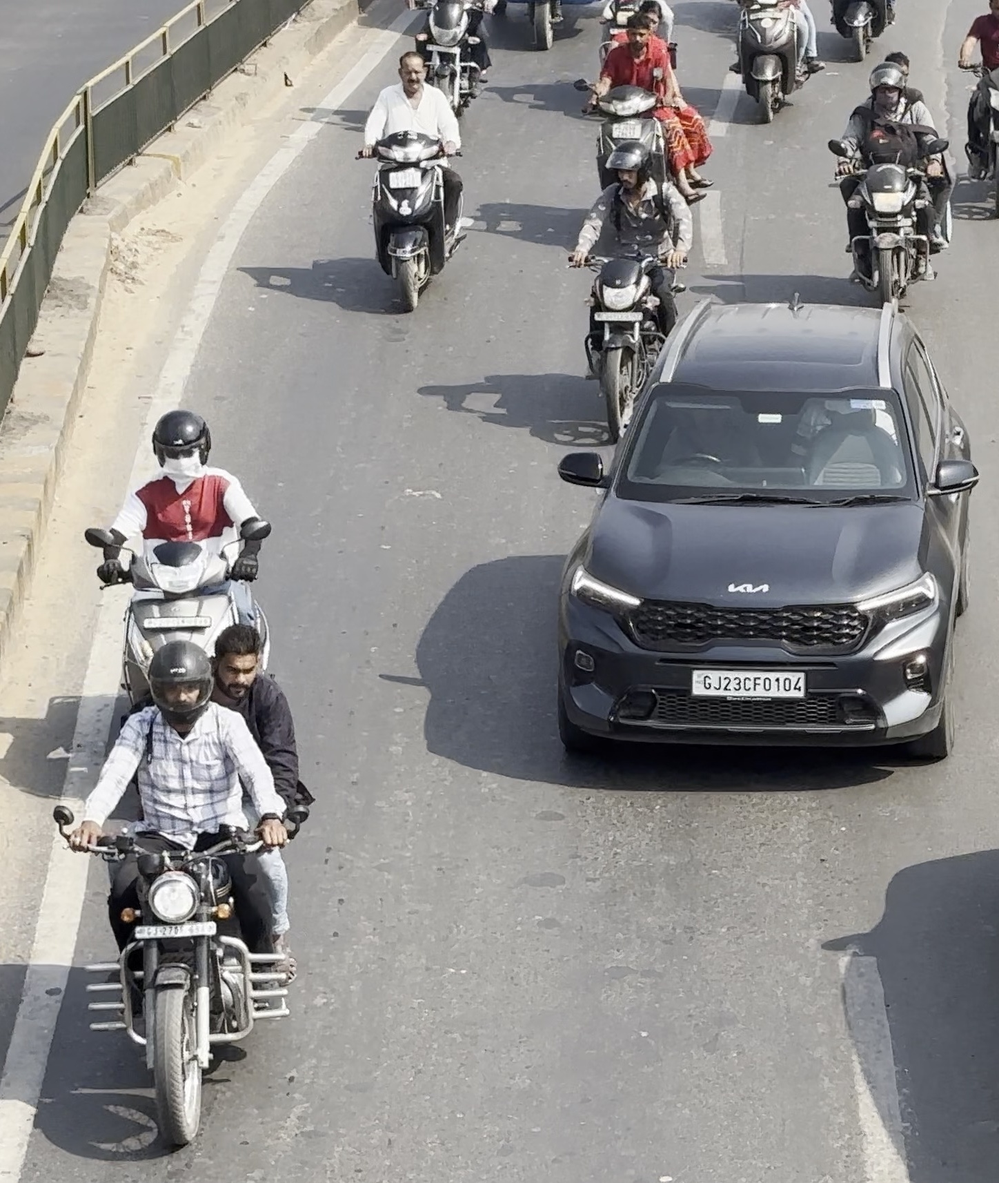BikeWithRider: (43, 614, 324, 1158), (74, 399, 288, 763), (558, 129, 700, 450), (818, 48, 964, 321), (345, 41, 477, 319), (567, 0, 723, 216), (713, 0, 832, 131)
Helmet: (137, 631, 222, 728), (139, 401, 222, 480), (594, 130, 662, 196), (860, 51, 918, 107)
NoHelmet: (201, 617, 275, 708), (388, 45, 435, 101), (619, 8, 658, 55)
